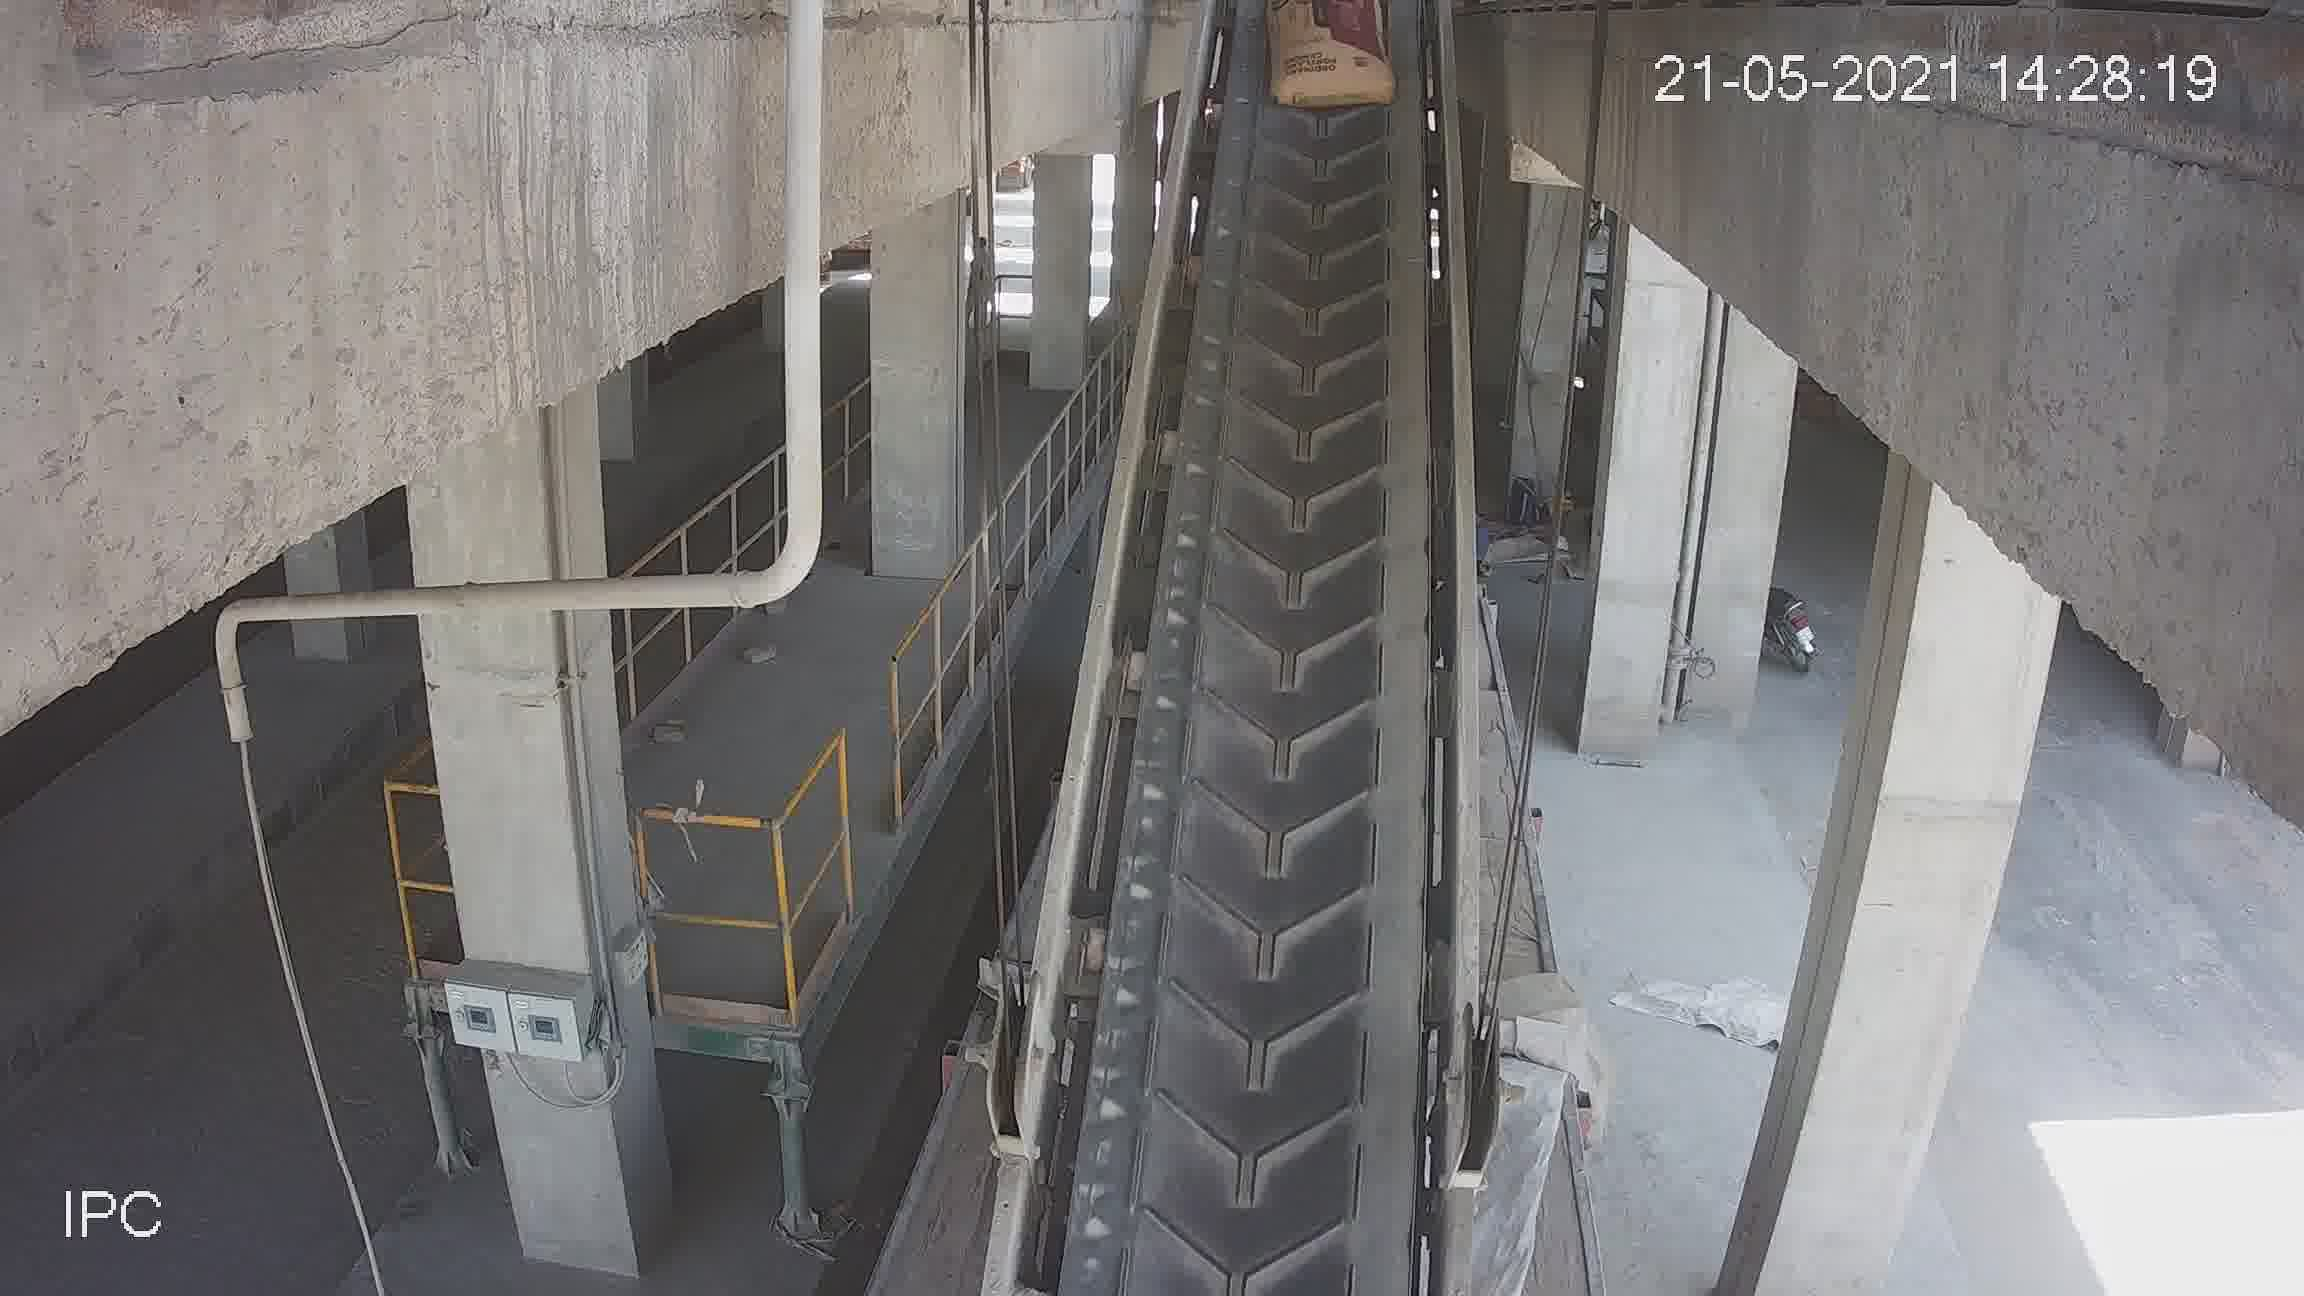bag: (1268, 9, 1374, 93)
belt: (1048, 24, 1491, 1279)
